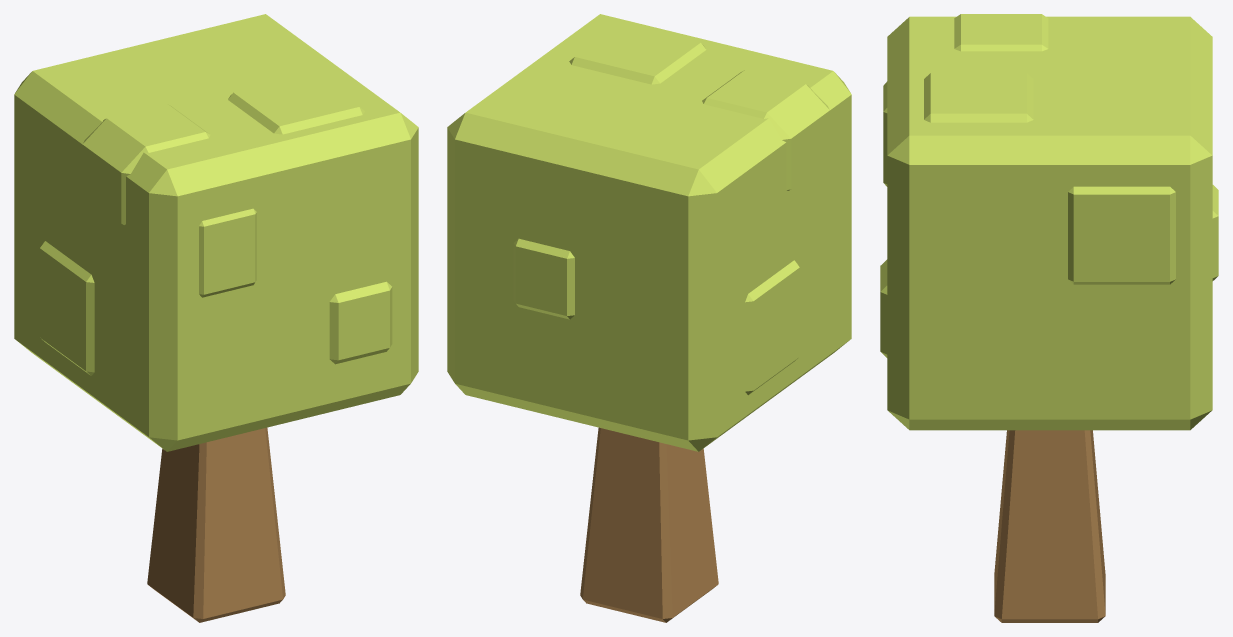
File: moyen_arbre_01.glb
3 views of the same model, side by side, from view 1: azimuth 30°, elevation 25°; view 2: azimuth 150°, elevation 25°; view 3: azimuth 270°, elevation 25° (orthographic). The views are drawn at different scales.
Visible parts, largest first — view 1: Cube.010, Tronc.001, Cube.013, Cube.015, Cube.018, Cube.012, Cube.014; view 2: Cube.010, Tronc.001, Cube.013, Cube.015, Cube.018, Cube.017; view 3: Cube.010, Tronc.001, Cube.011, Cube.018, Cube.013, Cube.014, Cube.017, Cube.012.
Boxes of the visible parts, x1=… form: Cube.010: x1=14, y1=14, x2=418, y2=451; Tronc.001: x1=147, y1=427, x2=285, y2=622; Cube.013: x1=82, y1=103, x2=210, y2=224; Cube.015: x1=40, y1=241, x2=94, y2=375; Cube.018: x1=228, y1=73, x2=364, y2=134; Cube.012: x1=199, y1=208, x2=256, y2=297; Cube.014: x1=329, y1=281, x2=392, y2=364; Cube.010: x1=447, y1=14, x2=851, y2=451; Tronc.001: x1=580, y1=427, x2=718, y2=622; Cube.013: x1=702, y1=69, x2=829, y2=190; Cube.015: x1=745, y1=260, x2=799, y2=395; Cube.018: x1=569, y1=23, x2=706, y2=84; Cube.017: x1=513, y1=238, x2=574, y2=319; Cube.010: x1=887, y1=16, x2=1212, y2=430; Tronc.001: x1=994, y1=430, x2=1105, y2=622; Cube.011: x1=1068, y1=186, x2=1175, y2=284; Cube.018: x1=924, y1=73, x2=1033, y2=122; Cube.013: x1=954, y1=14, x2=1048, y2=51; Cube.014: x1=880, y1=259, x2=887, y2=357; Cube.017: x1=1212, y1=185, x2=1218, y2=280; Cube.012: x1=883, y1=81, x2=887, y2=186.
Bounding box in the file's own units: 4.05 × 7.06 × 4.06.
